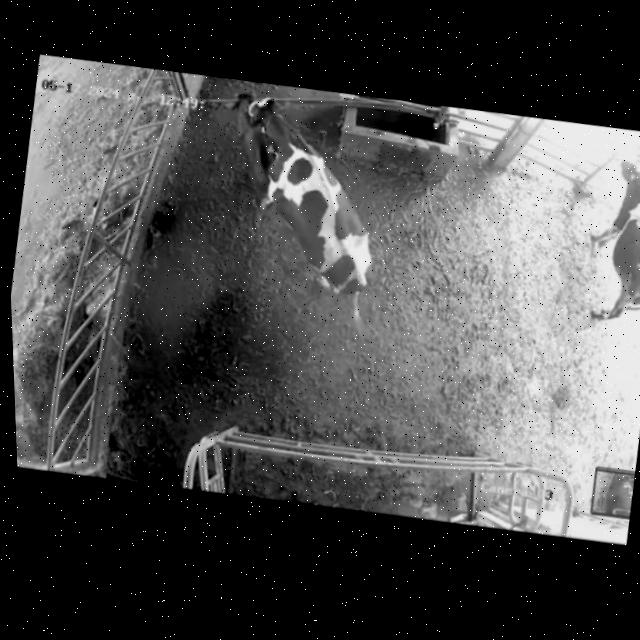ride: (214, 89, 412, 336)
stand: (559, 145, 640, 348), (199, 78, 285, 208)
